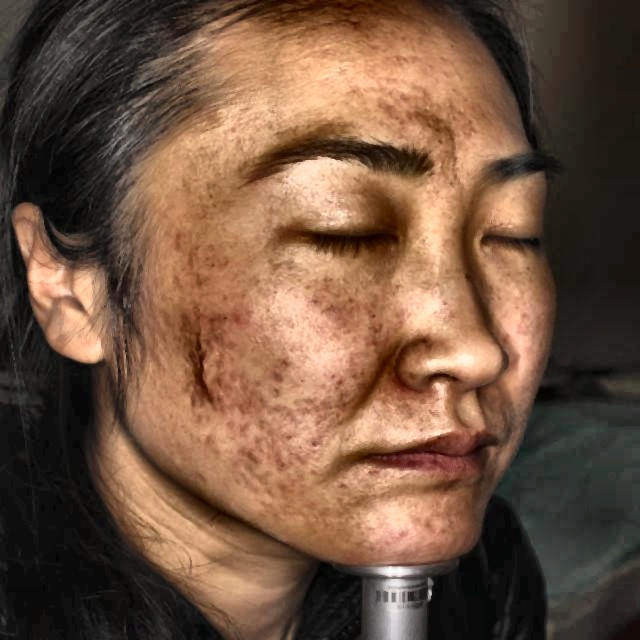pustule: (241, 439, 267, 461), (191, 323, 210, 350), (380, 100, 399, 124), (196, 353, 222, 367), (192, 376, 218, 388), (226, 310, 248, 324), (274, 448, 288, 469)
